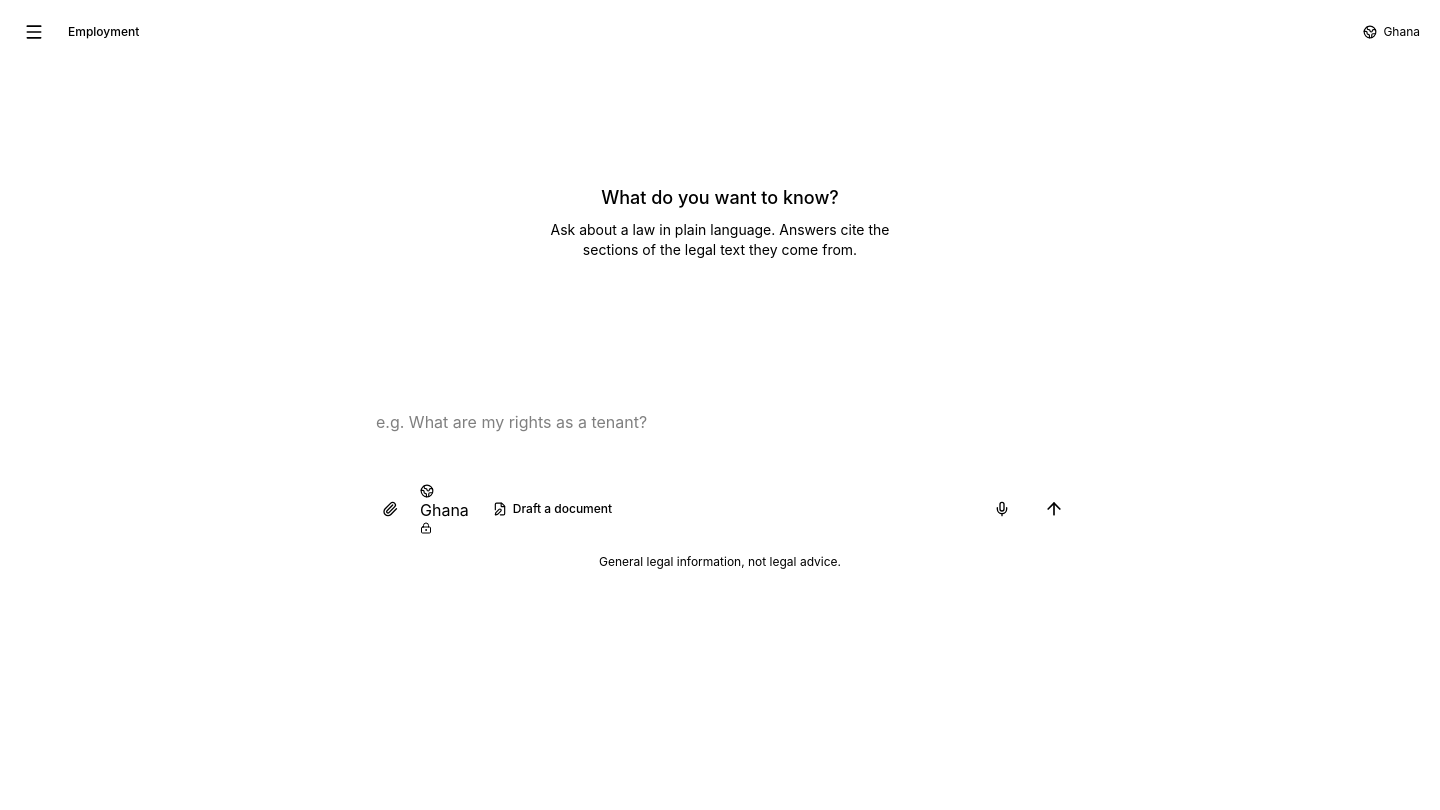
saved background verification in the chat › offers Stop after the lost-response lookup confirms the matching job ID
The width and height of the screenshot is (1440, 810).
In the text box: (720, 436) [364,396,1076,476], type "Stop after a lost acknowledgement"
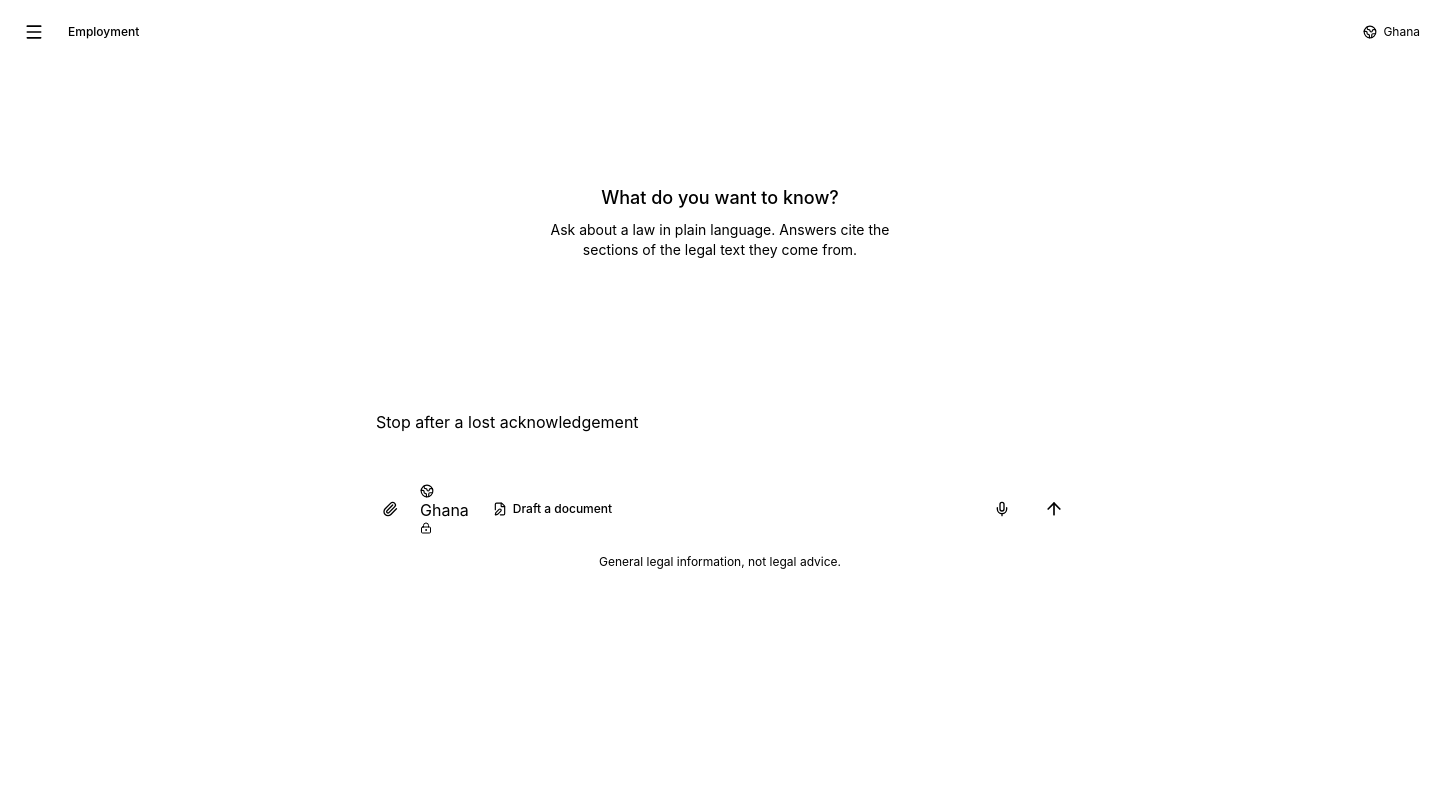
Click the button named "Send question": (1054, 509) [1032,487,1076,531]
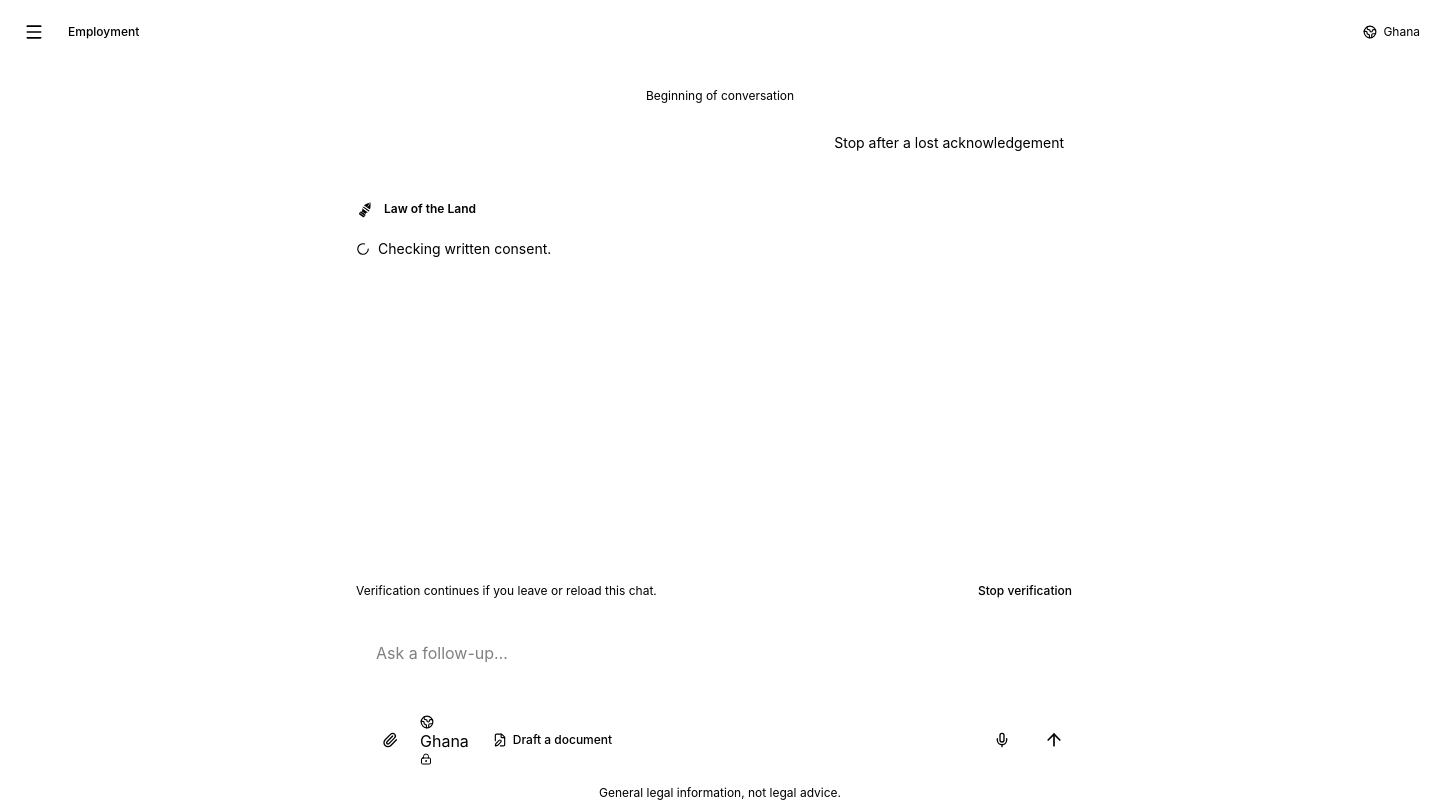
Click the button "Stop verification": (1025, 591) [966,575,1084,607]
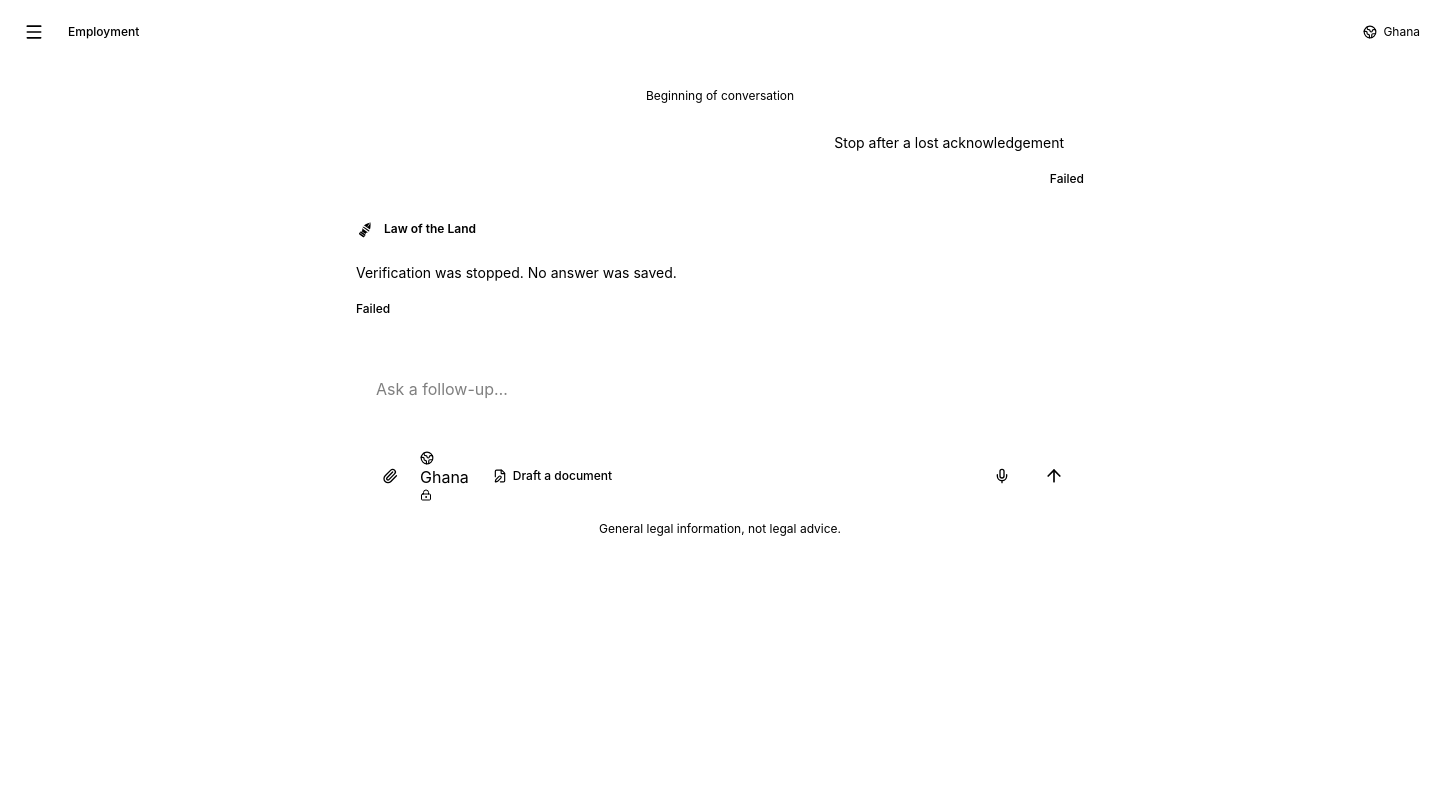
Expected: the text "Verification was stopped. No answer was saved." is shown, [356,264,677,281]
